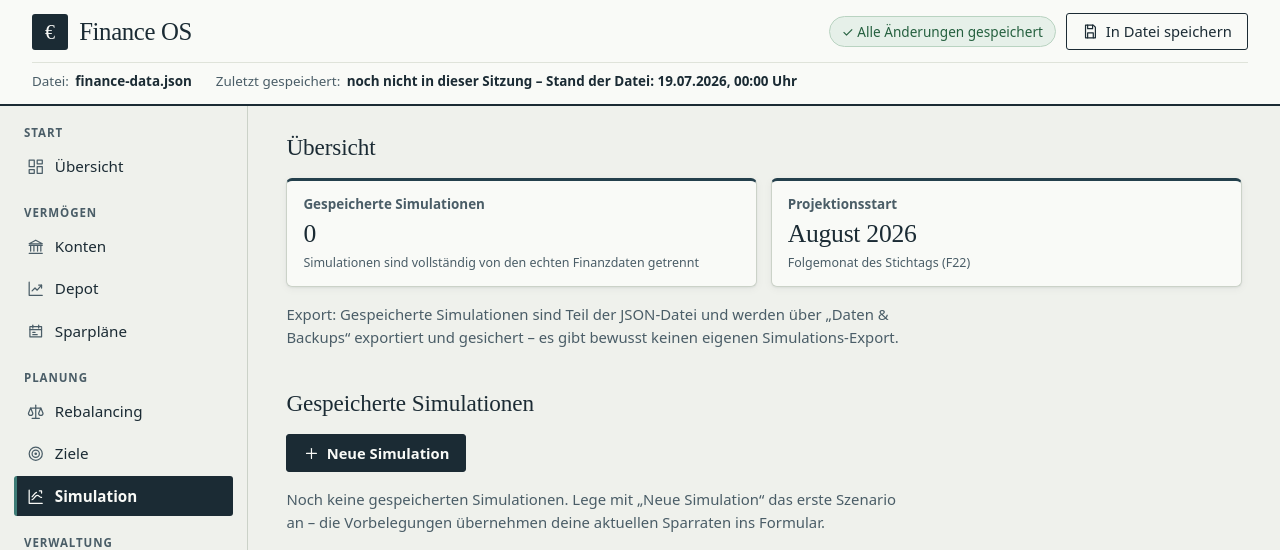
Test: SimulatorPage – Anlegen mit Vorbelegungen (Auflage 2.4, G8/G9) › B2: Beitragszeile entfernen → Status „Beitrag N entfernt.“ + Fokus auf „Beitrag hinzufügen“
(page scrolled)
Click the button "Neue Simulation" at (376, 453), box [286, 434, 466, 472]
(page scrolled)
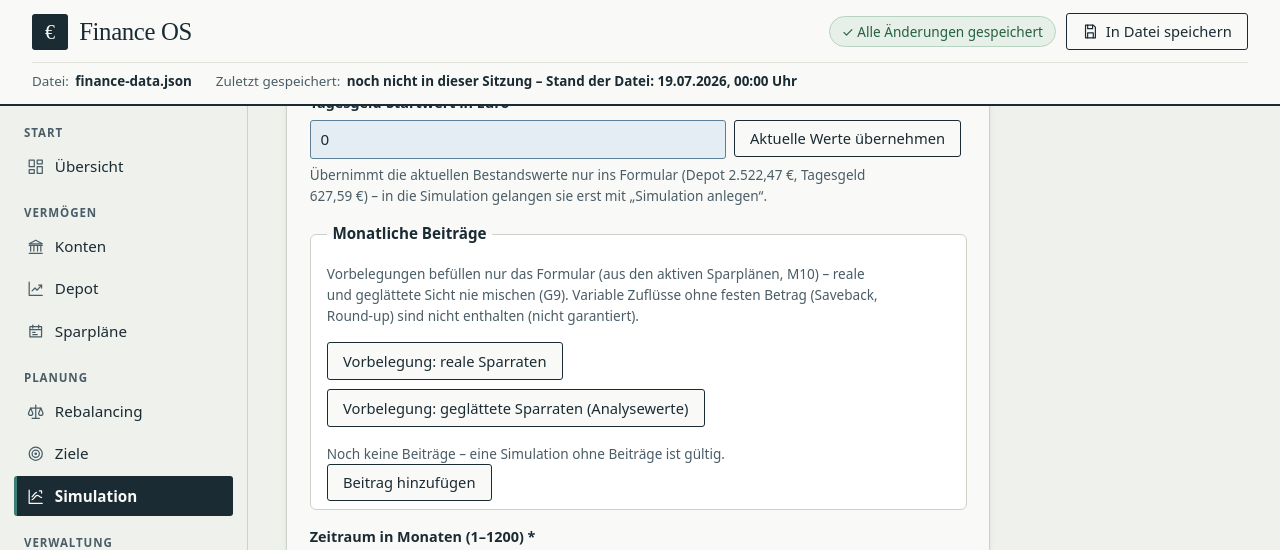
Click the button "Vorbelegung: reale Sparraten" at (445, 361), box [327, 342, 563, 380]
(page scrolled)
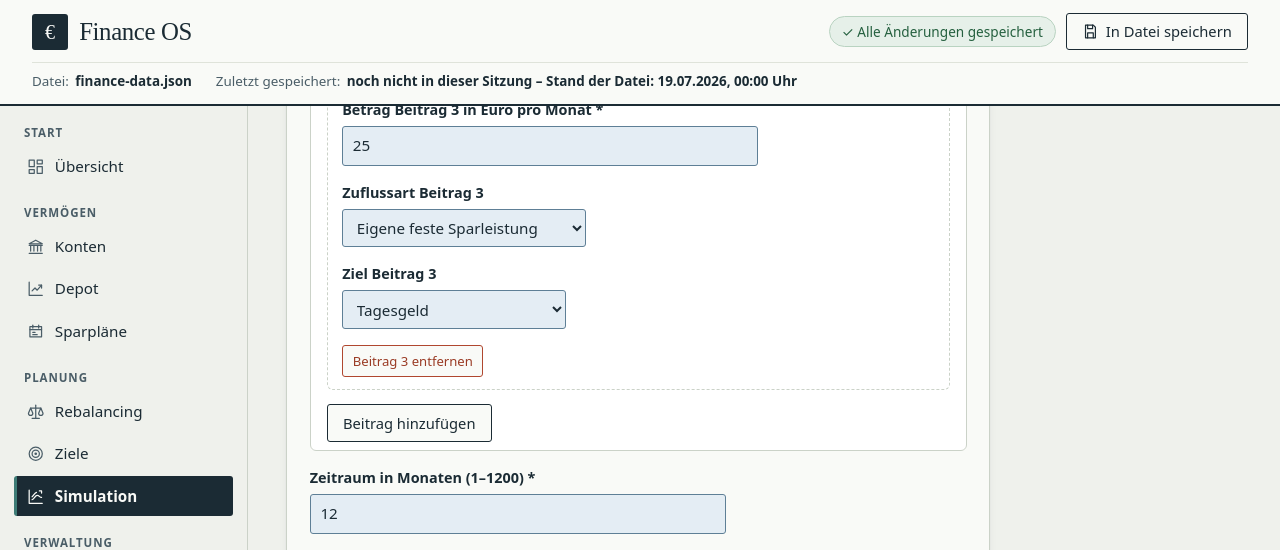
Click the button "Beitrag 3 entfernen" at (413, 361), box [342, 345, 484, 377]
(page scrolled)
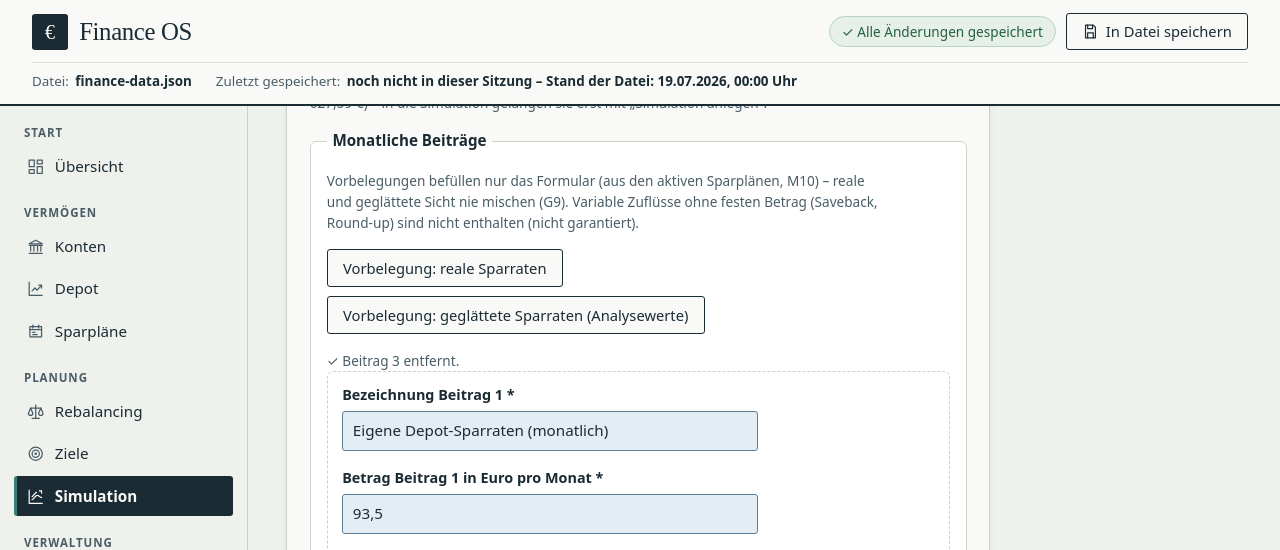
Expected: the label labelled "Bezeichnung Beitrag 3 *" is not shown
Expected: the text "✓ Beitrag 3 entfernt." is shown, [327, 351, 459, 370]
